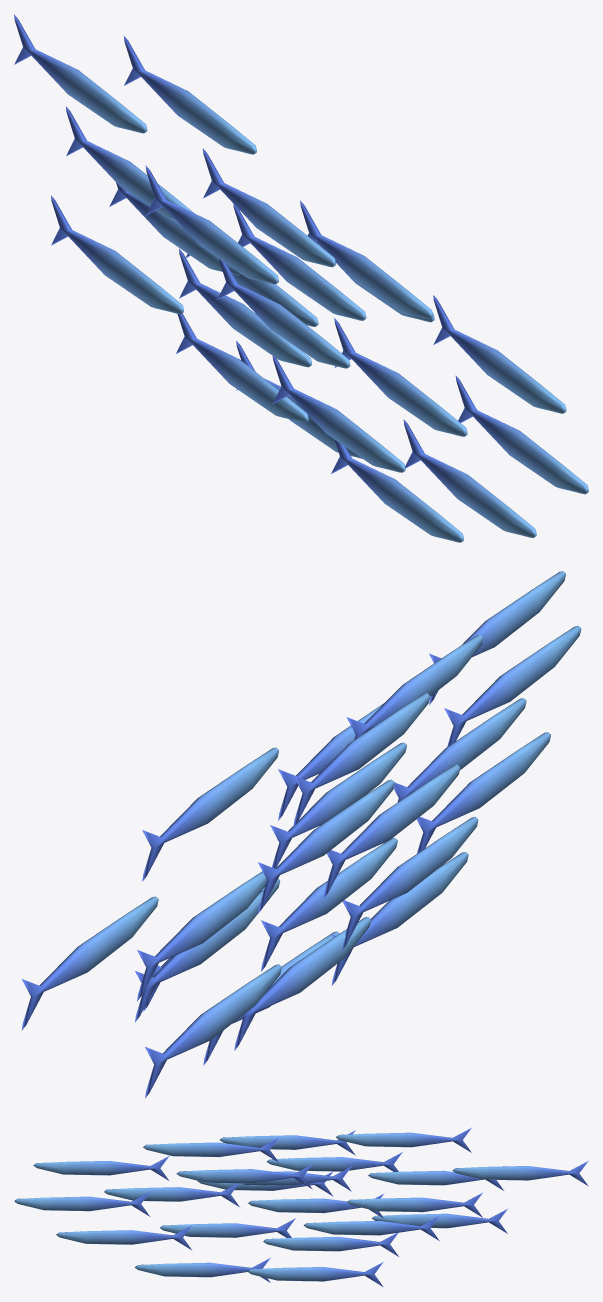
File: fish2.fbx
The picture shows the model from 3 angles, top to bottom: view 1: azimuth 30°, elevation 25°; view 2: azimuth 150°, elevation 25°; view 3: azimuth 270°, elevation 25°; orthographic projection. The views are drawn at different scales.
Visible parts, largest first — view 1: obj2; view 2: obj2; view 3: obj2.
Part boxes in pixels (x1,y1,x2,y2): obj2: (14, 14, 588, 542); obj2: (21, 571, 581, 1098); obj2: (14, 1127, 588, 1287).
Size of the model in its own units: 11.33 by 37.84 by 128.
Materials: 1 (1 with a texture image).
